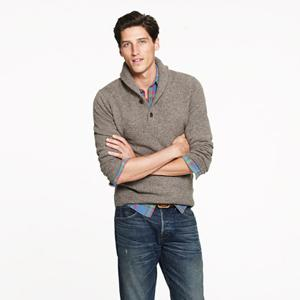C_cardigan sweater: (90, 59, 219, 205)
